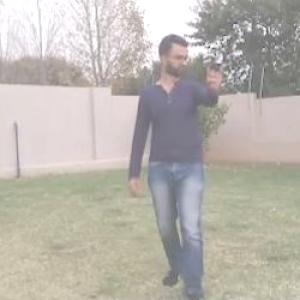takeoff-hand: (200, 48, 228, 100)
